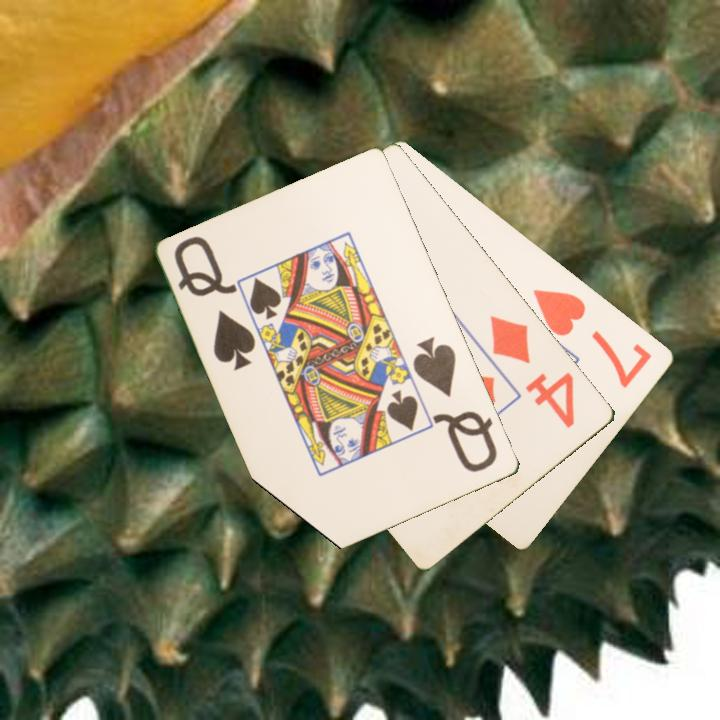4d: (487, 311, 579, 431)
7h: (529, 285, 656, 391)
Qs: (409, 333, 501, 476), (171, 232, 259, 374)
